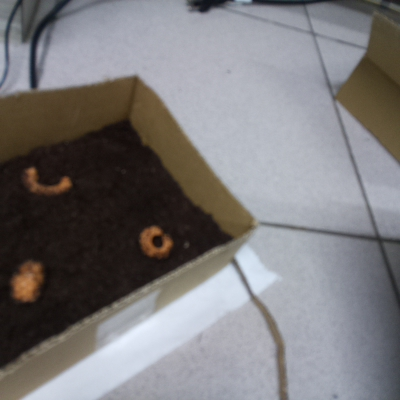eggs: (17, 157, 78, 204), (5, 253, 48, 306), (133, 220, 179, 263)
